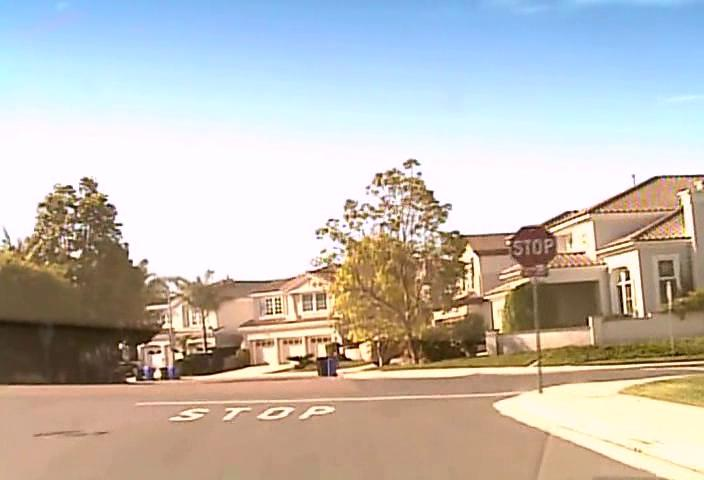stop: (510, 225, 557, 268)
